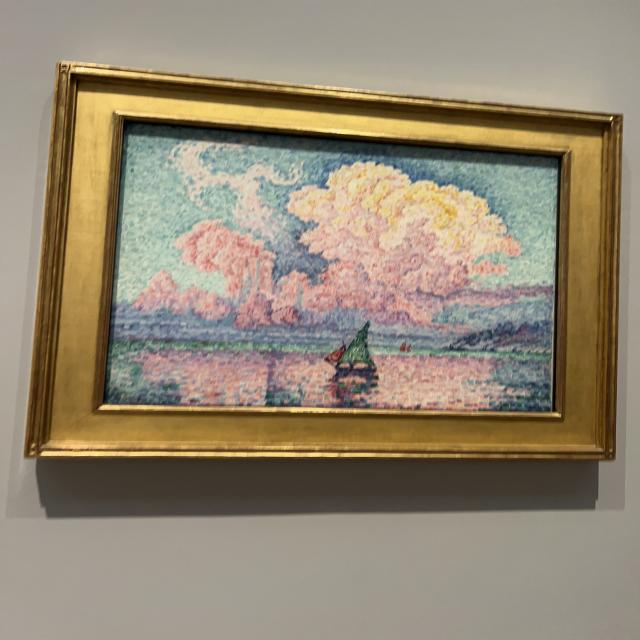sunrise: (104, 122, 559, 412)
